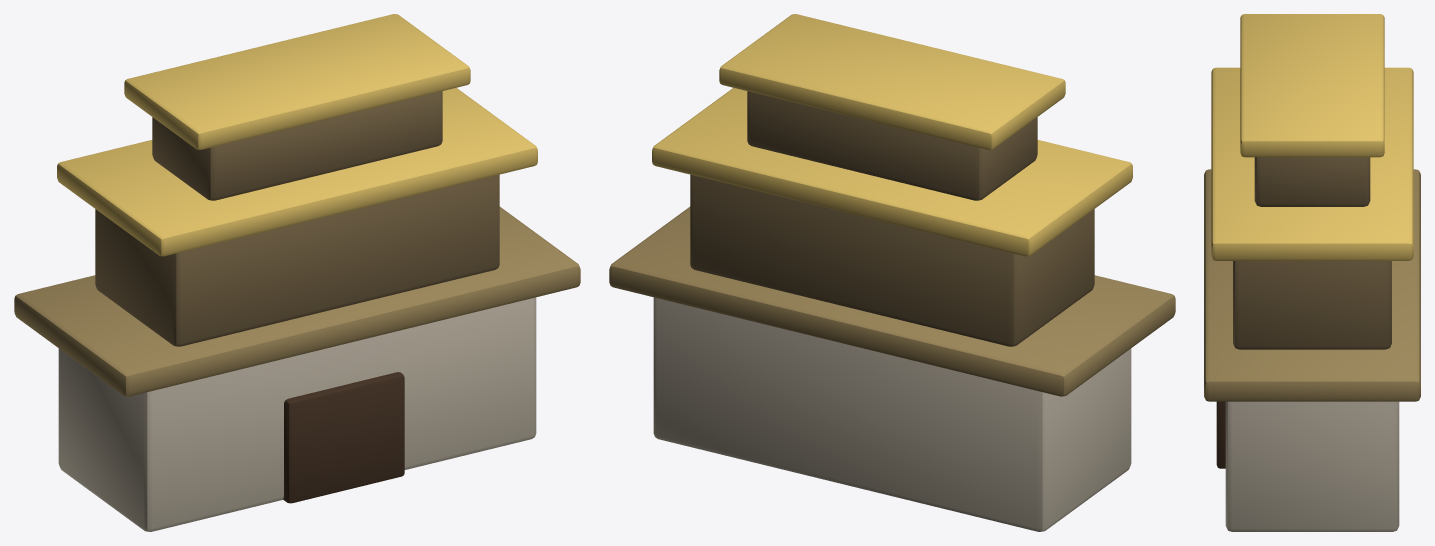
3 views of the same model, side by side, from view 1: azimuth 30°, elevation 25°; view 2: azimuth 150°, elevation 25°; view 3: azimuth 270°, elevation 25° (orthographic). The views are drawn at different scales.
Parts seen in each view (by area): view 1: landmark_7c2f7c00; view 2: landmark_7c2f7c00; view 3: landmark_7c2f7c00.
Boxes of the visible parts, x1,y1,x2,y2 form: landmark_7c2f7c00: (14, 14, 580, 531); landmark_7c2f7c00: (609, 14, 1175, 531); landmark_7c2f7c00: (1204, 14, 1420, 531).
Size of the model in its own units: 7 by 5.59 by 3.
